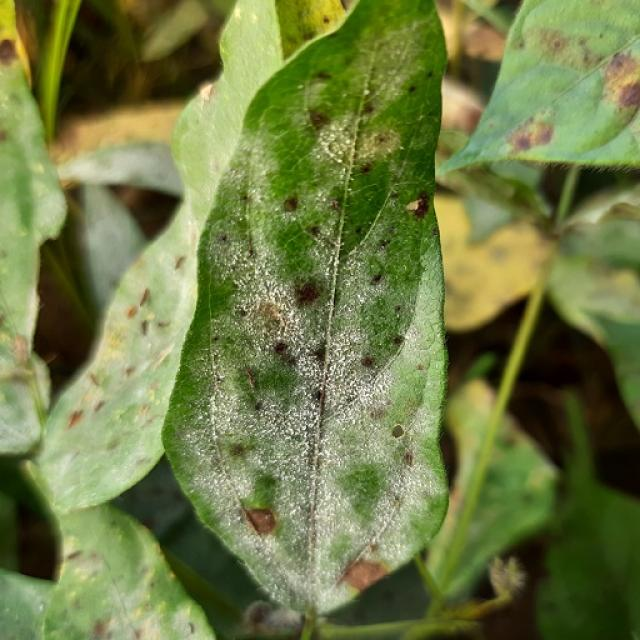Blackgram: (162, 0, 445, 608)
Powdery_Mildew: (229, 261, 396, 544), (297, 435, 432, 602), (213, 309, 317, 468), (234, 131, 341, 273), (314, 311, 405, 450), (341, 18, 434, 128), (242, 247, 323, 371), (296, 108, 373, 218), (220, 228, 295, 332), (284, 358, 336, 502), (216, 216, 284, 310)
